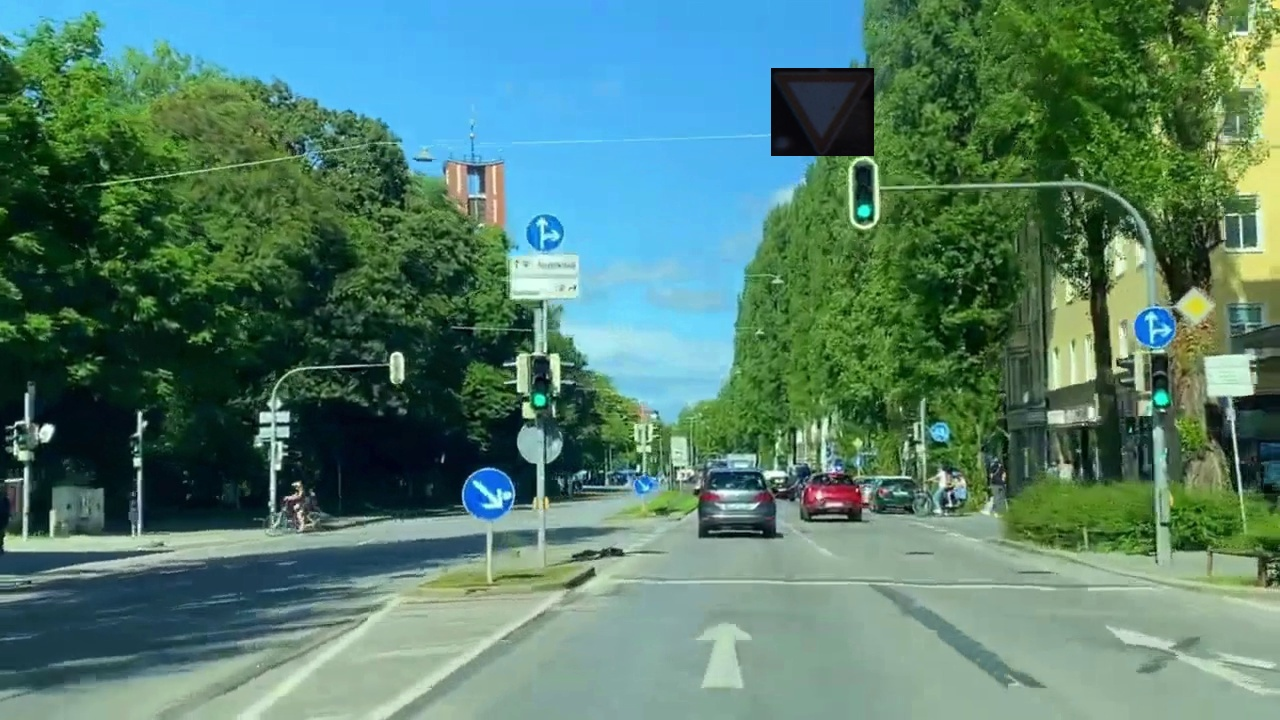Yield: (771, 68, 874, 156)
